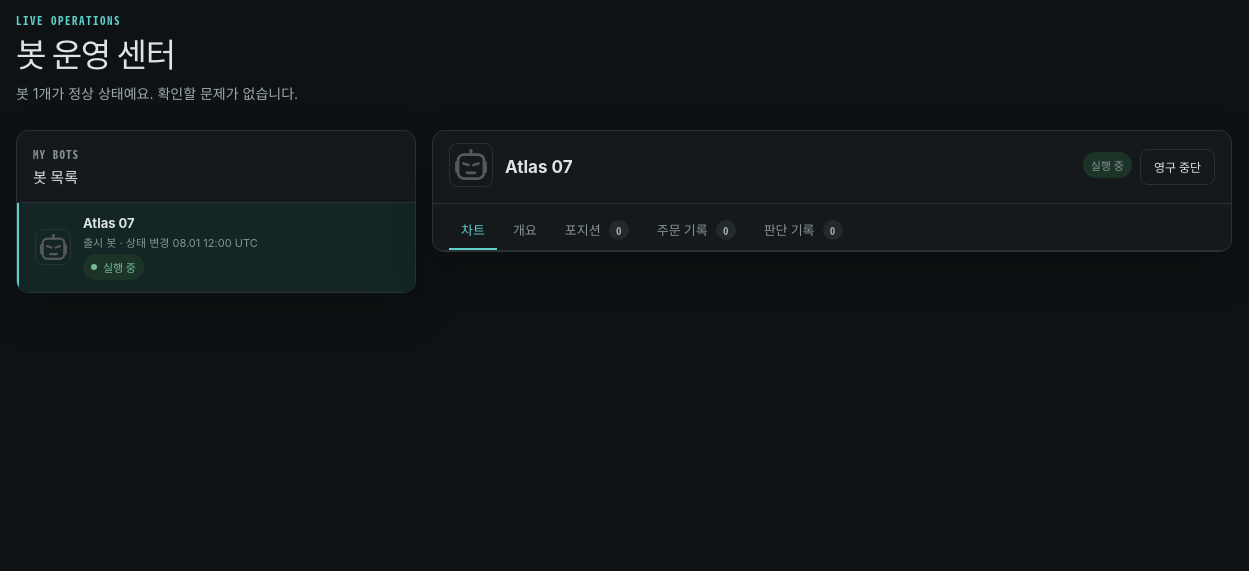
Test case: Bot trading and ledger surfaces › shows the strategy budget and its partitions without rounding a cent away
The image size is (1249, 571).
Step 1. Click the tab "개요" → (525, 231), box left=501, top=212, right=549, bottom=250
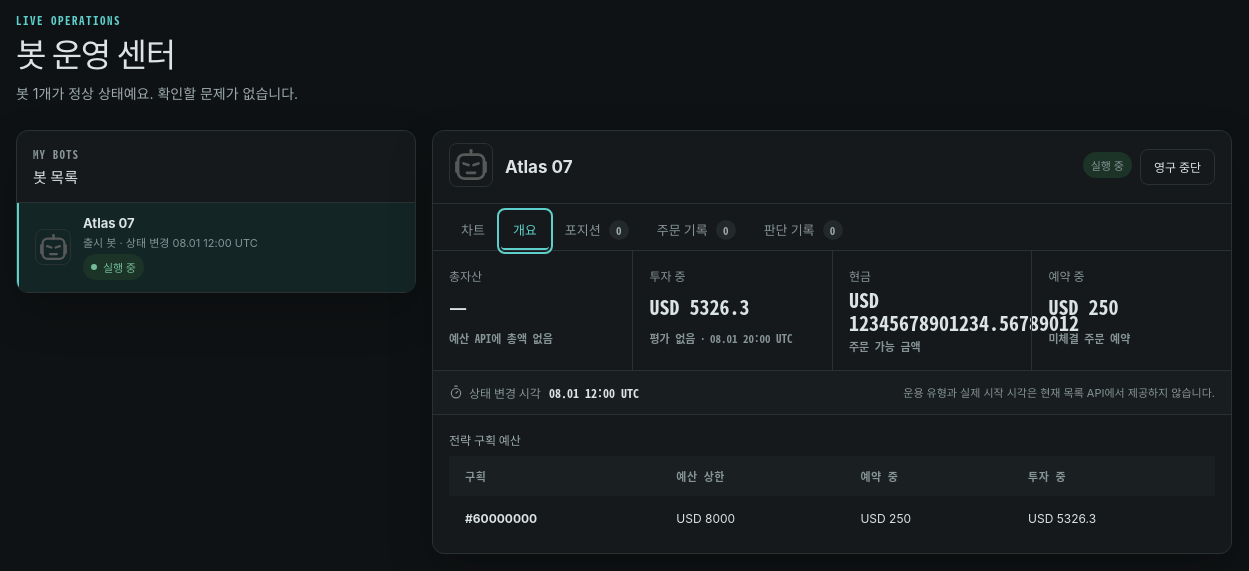
Now the text "USD 12345678901234.56789012" is shown, box left=849, top=288, right=1079, bottom=334
Now the text "USD 250" is shown, box left=1048, top=292, right=1118, bottom=322
Now the text "USD 5326.3" is shown, box left=650, top=292, right=750, bottom=322
